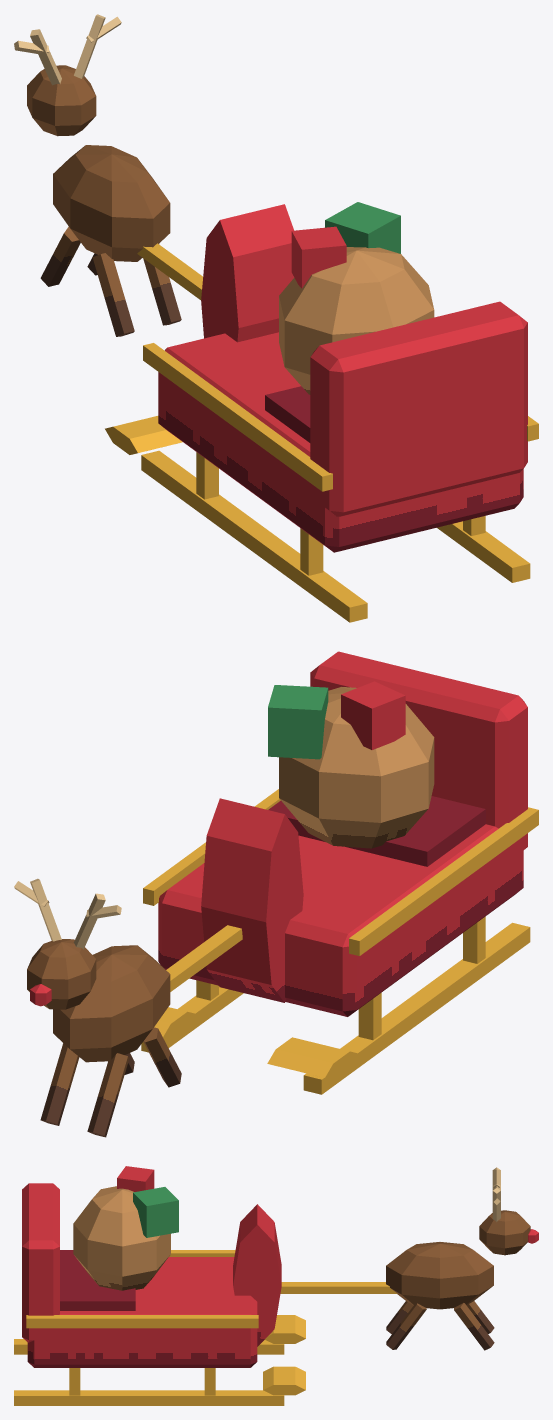
The model's file is sleigh.glb.
3 renders of one model, top to bottom at view 1: azimuth 30°, elevation 25°; view 2: azimuth 150°, elevation 25°; view 3: azimuth 270°, elevation 25°, orthographic. The views are drawn at different scales.
Visible parts, largest first — view 1: sleigh; view 2: sleigh; view 3: sleigh.
Part boxes in pixels (x1=…): sleigh: x1=14, y1=14, x2=538, y2=622; sleigh: x1=14, y1=651, x2=538, y2=1137; sleigh: x1=14, y1=1166, x2=538, y2=1405.
Bounding box in the file's own units: 1.22 × 1.62 × 3.88.
1 material, 1 textured.
